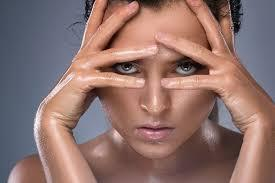Oily-Skin: (62, 10, 208, 178)
